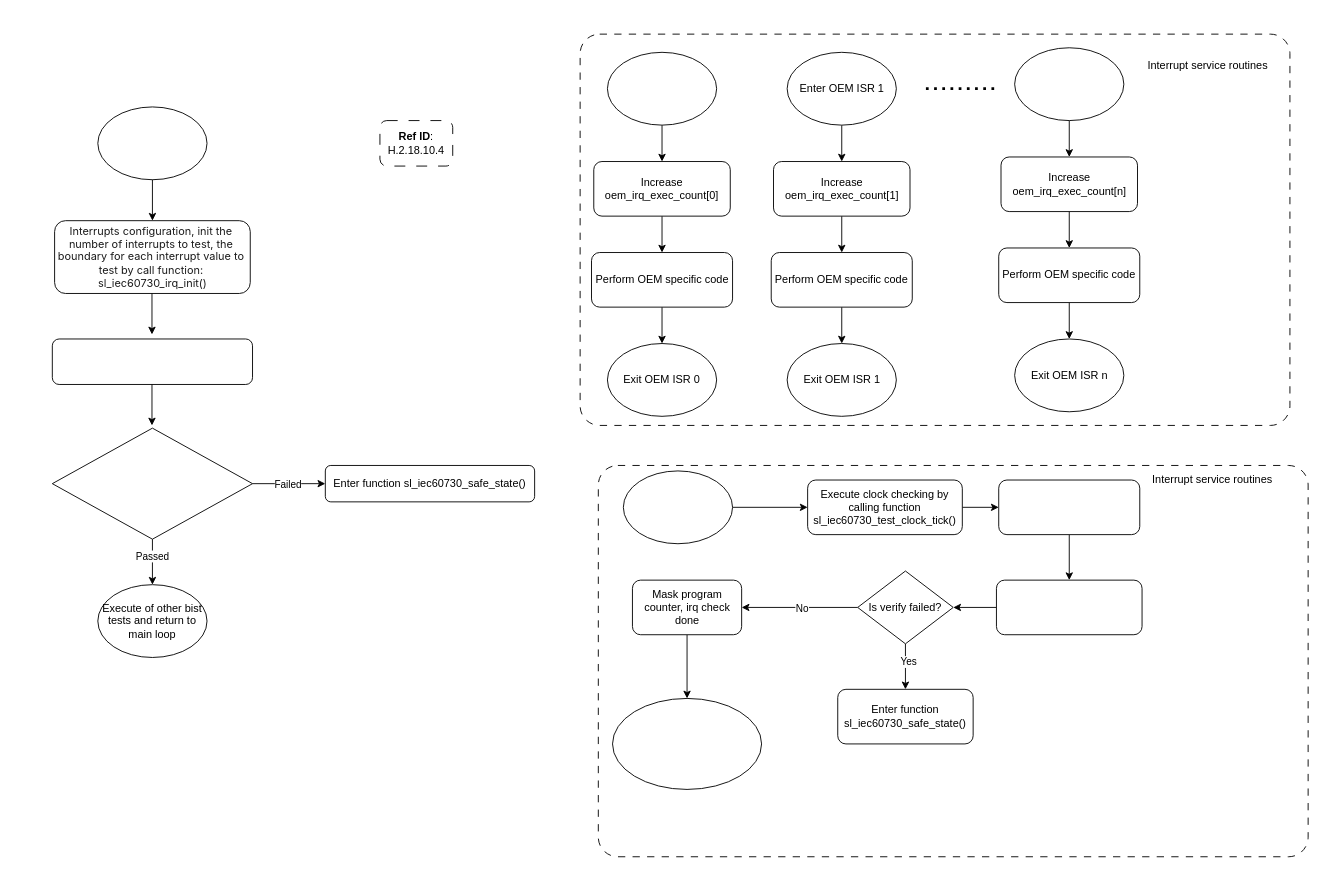
The diagram is 1332 pixels wide and 886 high, and some of its shapes have lost their labels. The box of each missing label's shape, as (x1, y1, x2, y2) in pixels:
Enable interrupts: (51, 338, 253, 384)
Enter OEM ISR 0: (607, 51, 717, 125)
Enter OEM ISR n: (1014, 47, 1124, 121)
Enter sl_iec60730_bist() and run test: (51, 427, 253, 539)
Enter sl_irq_check(): (998, 479, 1140, 535)
Enter timer ISR clocked by test clock: (622, 470, 733, 544)
Return from sl_iec60730_irq_check(), then from ISR clocker by test clock: (612, 698, 762, 789)
Start: (97, 106, 207, 180)
Verify all oem_irq_exec_count are within expected bound: (996, 579, 1142, 635)
